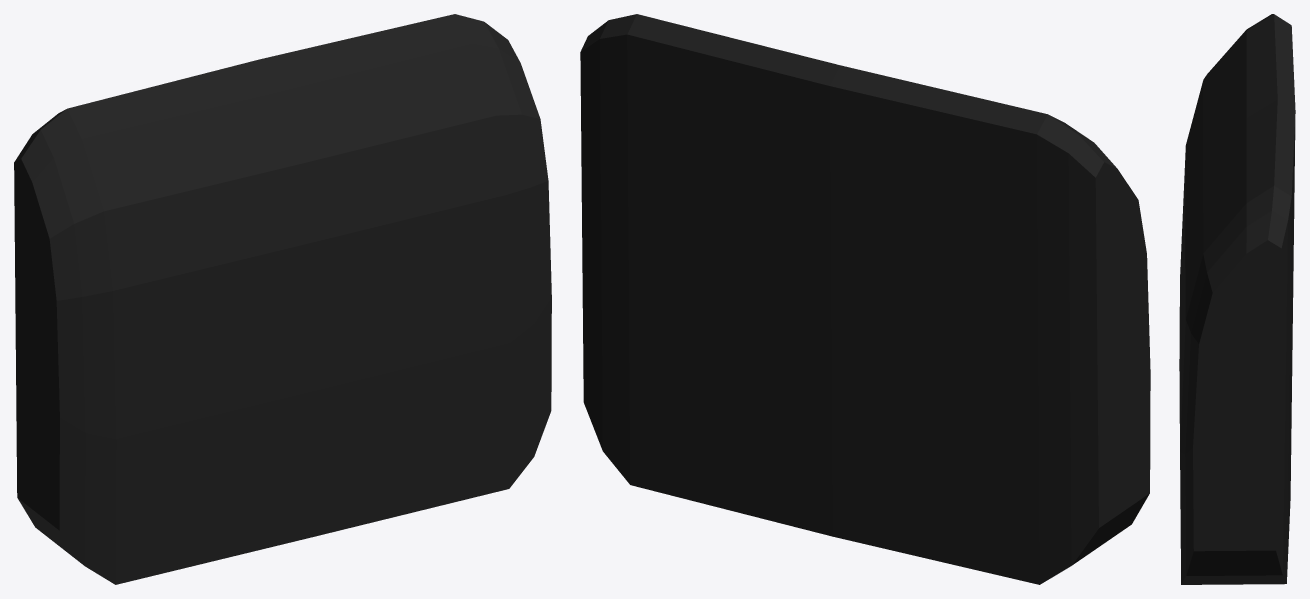
The model's file is Gaming_Chair_Ac_2.obj.
3 renders of one model, left to right at view 1: azimuth 30°, elevation 25°; view 2: azimuth 150°, elevation 25°; view 3: azimuth 270°, elevation 25°, orthographic. The views are drawn at different scales.
Parts seen in each view (by area): view 1: Gaming_Chair_Ac_2; view 2: Gaming_Chair_Ac_2; view 3: Gaming_Chair_Ac_2.
Part boxes in pixels (bbox=[...]): Gaming_Chair_Ac_2: bbox=[14, 14, 551, 584]; Gaming_Chair_Ac_2: bbox=[580, 14, 1150, 584]; Gaming_Chair_Ac_2: bbox=[1179, 14, 1295, 584].
Size of the model in its own units: 0.3387 by 0.2892 by 0.0762.
